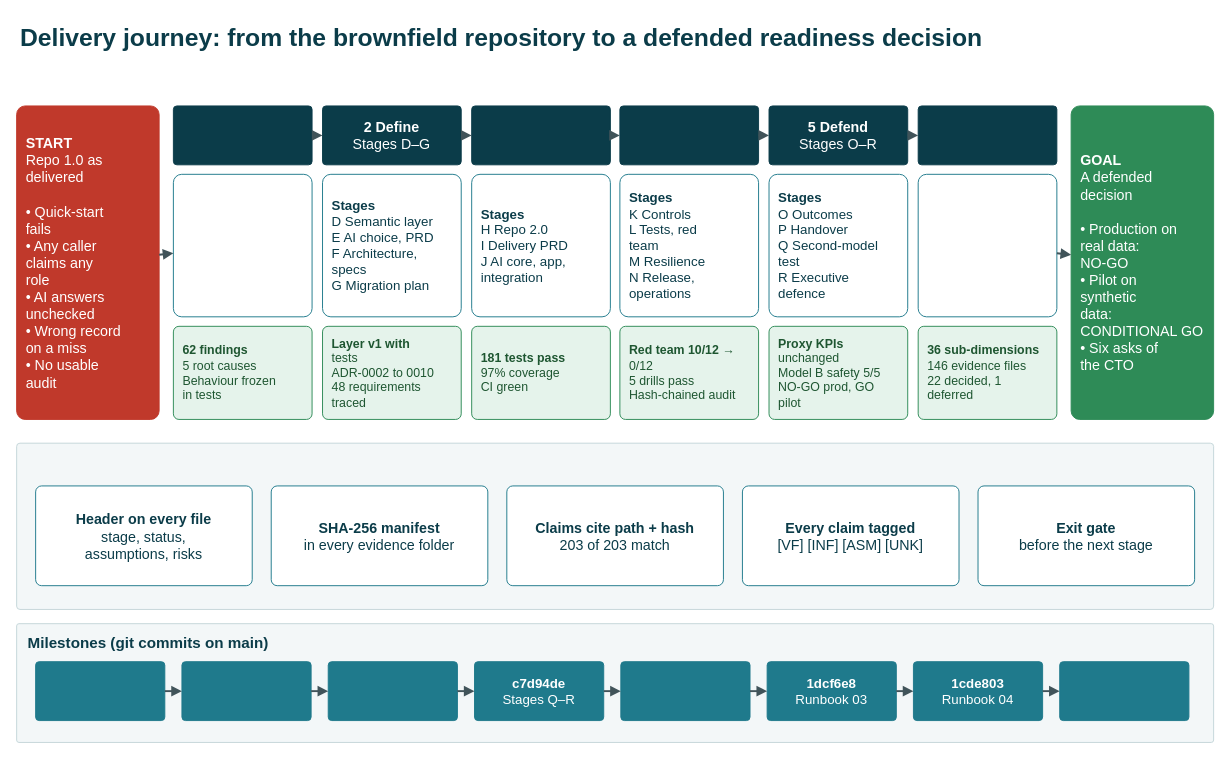
Image size: 1230x759. Some labels were removed from this diagram. The box of each missing label's shape, as (x1, y1, x2, y2) in pixels:
1 Understand Stages A–C: (172, 105, 312, 165)
3 Build Stages H–J: (471, 105, 610, 165)
4 Prove Stages K–N: (619, 105, 759, 165)
4c84af1 Stages A–P: (327, 661, 457, 721)
6 Close-out Runbooks 03–04: (917, 105, 1057, 165)
698e858 Stage A: (181, 661, 311, 721)
ab37ec8 Second model: (620, 661, 750, 721)
ad230eb Layer v2.0: (1059, 661, 1189, 721)
Evidence discipline applied in every stage: (16, 442, 1214, 609)
Plan Runbooks 00–04: (35, 661, 165, 721)
Stages A Mobilise B Problem, value C Baseline, root cause: (172, 173, 312, 317)
Stages S Rubric traceability T 23 decisions Semantic layer v2.0: (917, 173, 1057, 317)
